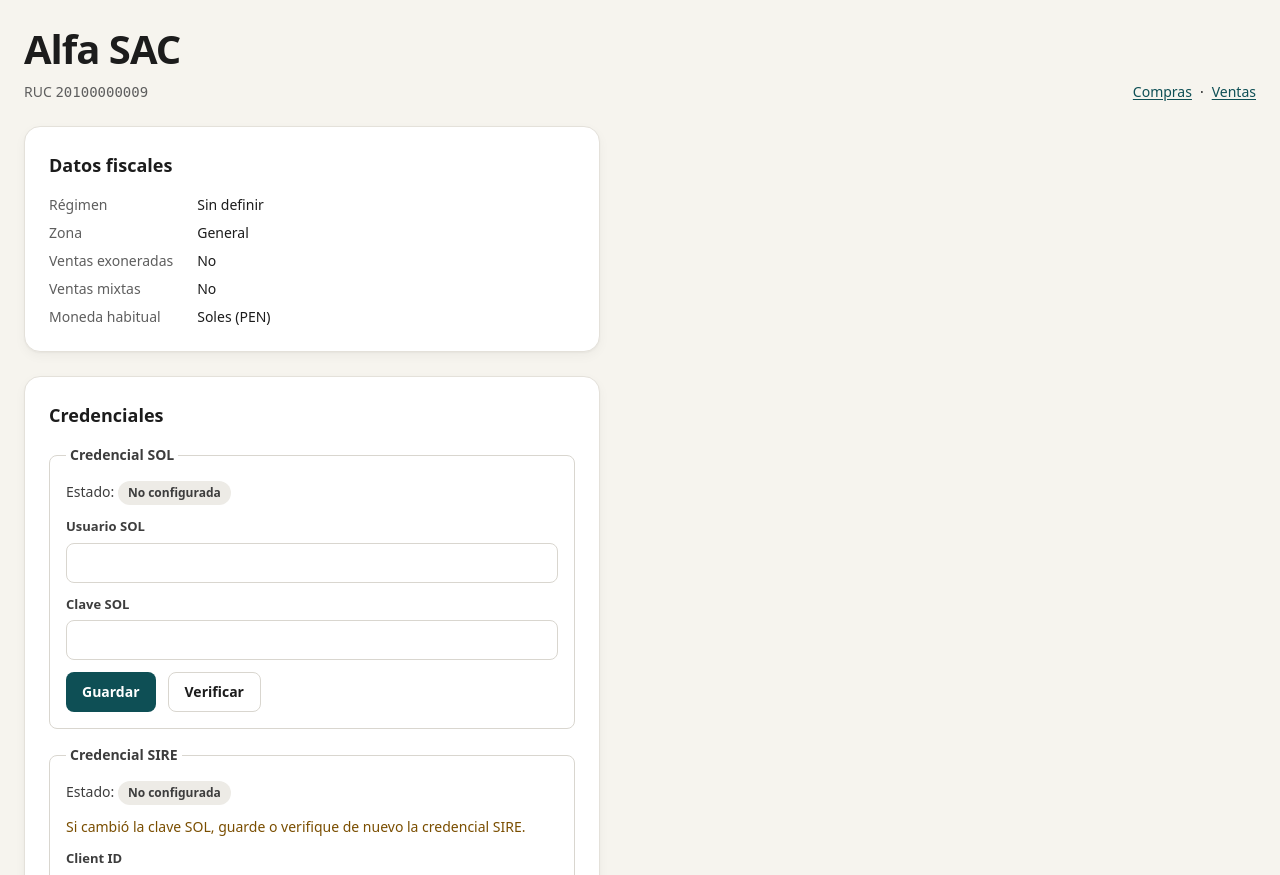
it: /clientes/:id · credenciales (007b) › verificar (D6, CA-5) › 409 cliente_archivado → clienteArchivado
Click the button "Verificar" at (214, 692), box 168,672 -> 261,712
(page scrolled)
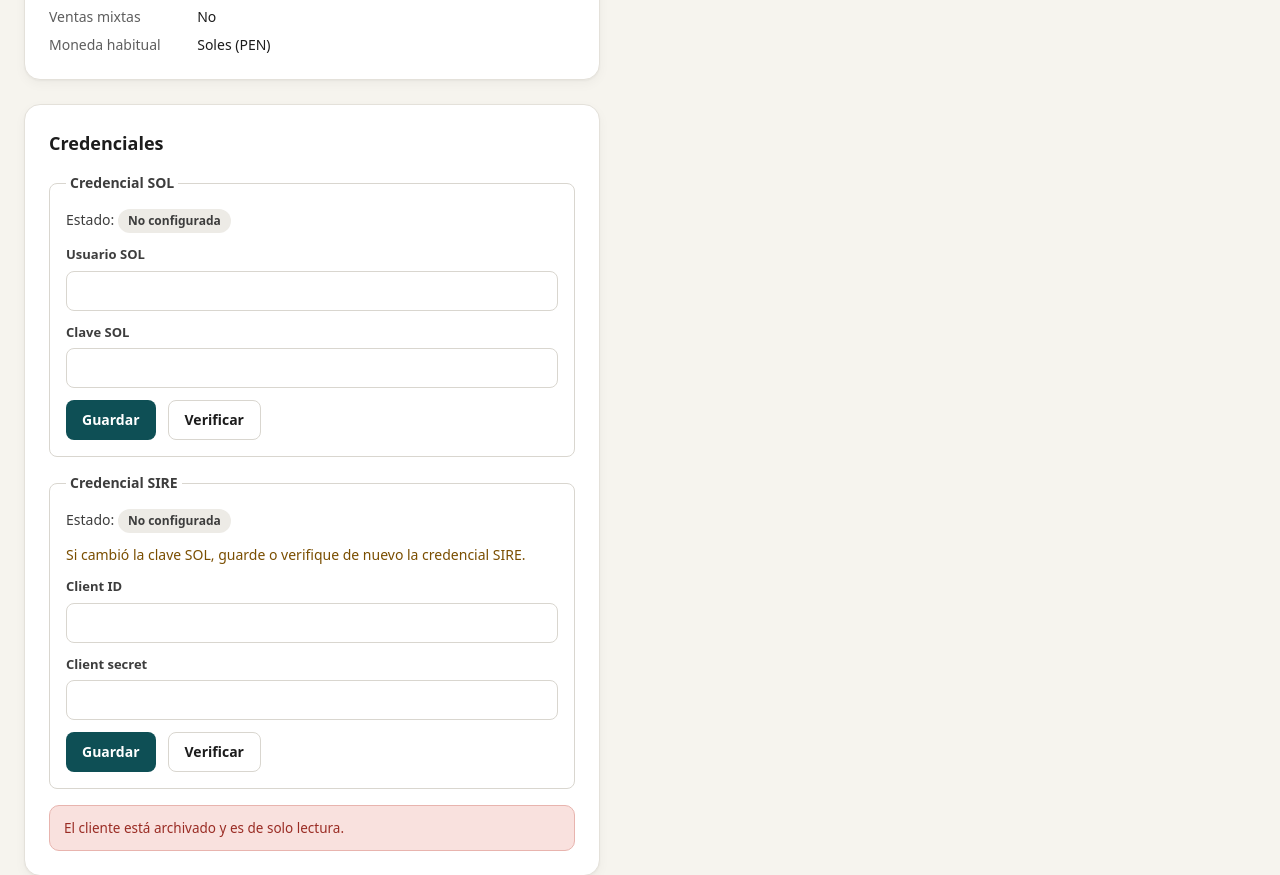
Check: the message reads "El cliente está archivado y es de solo lectura.", box 64,819 -> 344,837
